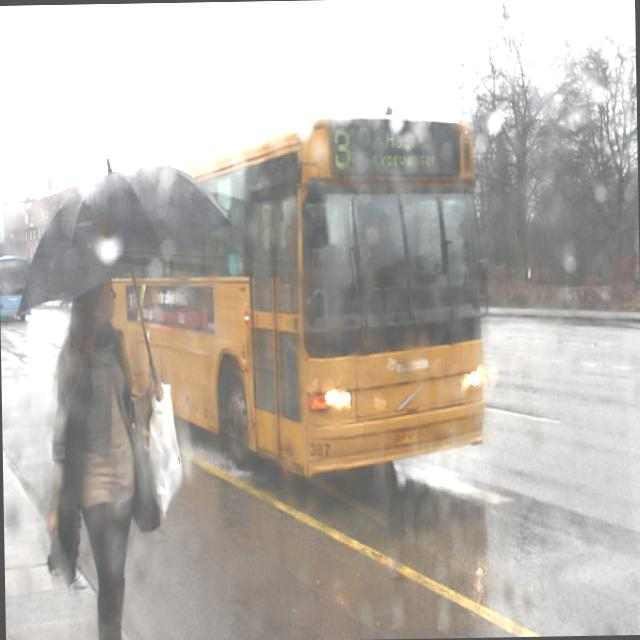Vehicle: (108, 113, 486, 481), (0, 253, 31, 321)
